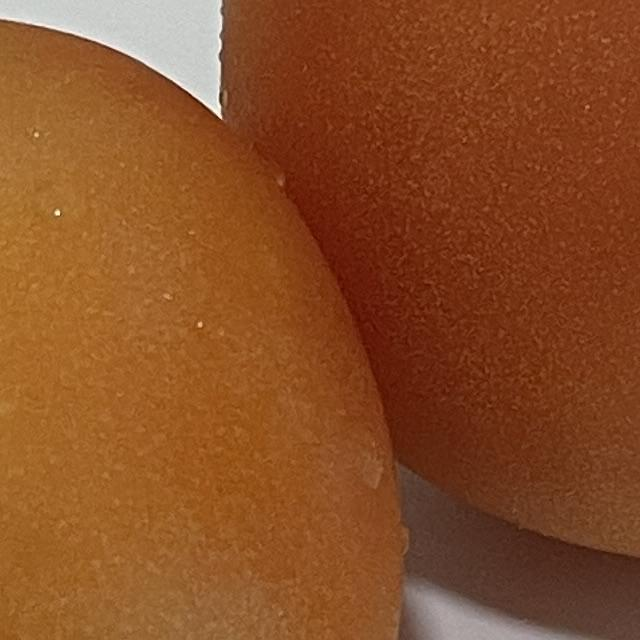tomato: (0, 0, 640, 640), (0, 0, 415, 640), (212, 0, 640, 573)
